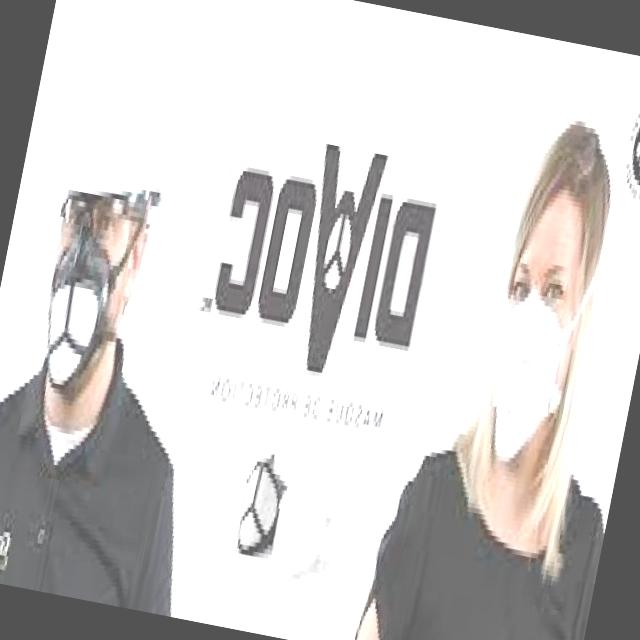no_vest: (0, 329, 213, 616), (332, 429, 615, 640)
